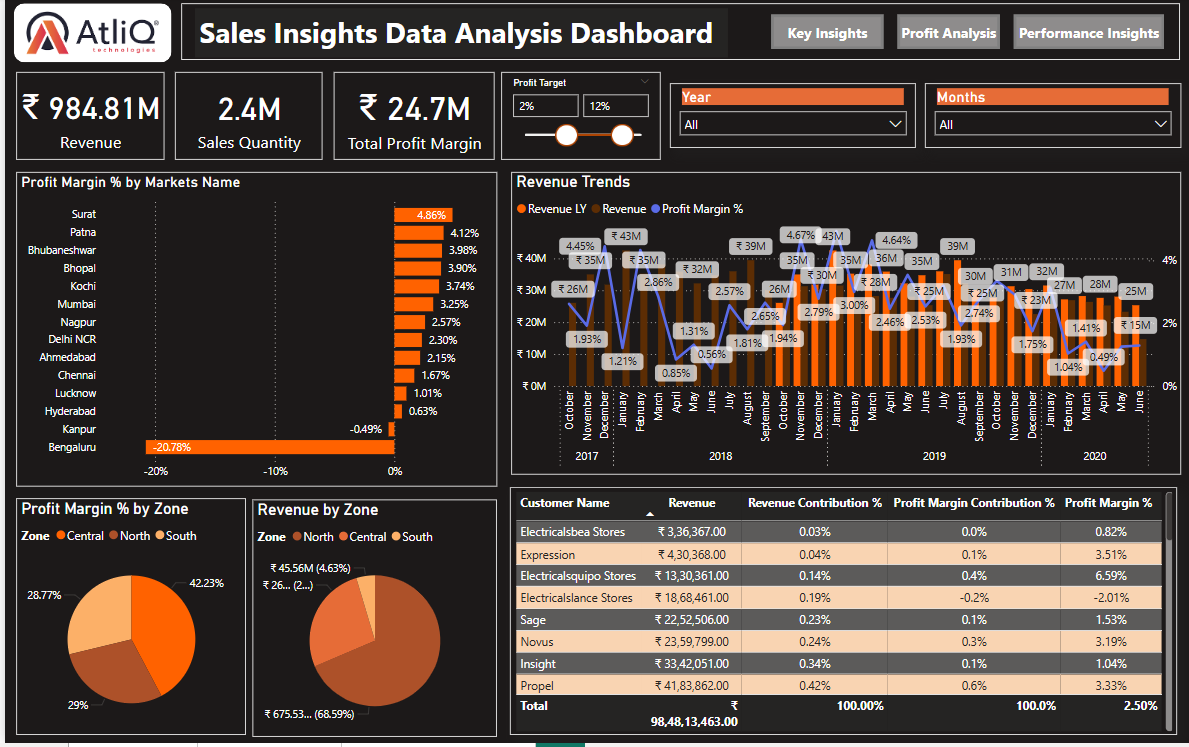

What the dashboard file says about the page in this screenshot:
{"tool":"powerbi","page":{"name":"Performance insights","canvas":[1350,850],"ordinal":2},"visuals":[{"type":"card","fields":{"Values":["keymeasure.Revenue"]},"box":[12.6,85.7,168.6,99.8],"z":0},{"type":"card","fields":{"Values":["keymeasure.sales quntity"]},"box":[193.3,85,168.3,100],"z":1000},{"type":"slicer","fields":{"Values":["sales date.year"]},"box":[758.3,98.3,280,73.3],"z":2000},{"type":"slicer","fields":{"Values":["sales date.cy_date"]},"box":[1048.3,98.3,291.7,73.3],"z":3000},{"type":"card","fields":{"Values":["keymeasure.Total Profit Margin"]},"box":[375,85,183.3,100],"z":4000},{"type":"barChart","title":"Profit Margin % by Markets Name","fields":{"Y":["keymeasure.Profit Margin %"],"Category":["sales markets.markets_name","sales customers.custmer_name","sales products.product_code"]},"box":[12.6,199.5,547.9,358.3],"z":5000},{"type":"lineClusteredColumnComboChart","title":"Revenue Trends","fields":{"Category":["sales date.cy_date.Variation.Date Hierarchy.Year","sales date.cy_date.Variation.Date Hierarchy.Month"],"Y":["keymeasure.Revenue LY","keymeasure.Revenue"],"Y2":["keymeasure.Profit Margin %"]},"box":[576.7,200,763.3,345],"z":6000},{"type":"slicer","fields":{"Values":["Profit Target1.Profit Target"]},"box":[565,85,181.7,100],"z":7000},{"type":"pieChart","title":"Profit Margin % by Zone","fields":{"Y":["keymeasure.Profit Margin %"],"Category":["sales markets.zone"]},"box":[12.6,571.8,261.3,269.8],"z":8000},{"type":"pieChart","title":"Revenue by Zone","fields":{"Category":["sales markets.zone"],"Y":["keymeasure.Revenue"]},"box":[282,572,278,270],"z":9000},{"type":"tableEx","fields":{"Values":["sales customers.custmer_name","keymeasure.Revenue","keymeasure.Revenue Contribution %","keymeasure.Profit Margin Contribution %","keymeasure.Profit Margin %"]},"box":[576,557.8,760.1,282.4],"z":10000},{"type":"shape","box":[200.9,7,1138,64.6],"z":11000},{"type":"actionButton","box":[1149.3,19.7,171.4,39.3],"z":12000},{"type":"actionButton","box":[1017.2,19.7,116.6,39.3],"z":13000},{"type":"actionButton","box":[872.5,19.7,127.9,39.3],"z":14000},{"type":"shape","box":[9.8,7,179.8,67.4],"z":15000},{"type":"image","box":[14,7,171.4,67.4],"z":16000},{"type":"textbox","box":[216.4,12.6,606.9,56.2],"z":17000}]}

Visuals, with their boxes in screenshot pixels (x1, y1, x2, y2), scaled from the page's 1350x850 canvas onto the 1189x747 screenshot:
card - keymeasure.Revenue: crop(11, 75, 160, 163)
card - keymeasure.sales quntity: crop(170, 75, 318, 163)
slicer - sales date.year: crop(668, 86, 914, 151)
slicer - sales date.cy_date: crop(923, 86, 1180, 151)
card - keymeasure.Total Profit Margin: crop(330, 75, 492, 163)
"Profit Margin % by Markets Name" barChart: crop(11, 175, 494, 490)
"Revenue Trends" lineClusteredColumnComboChart: crop(508, 176, 1180, 479)
slicer - Profit Target1.Profit Target: crop(498, 75, 658, 163)
"Profit Margin % by Zone" pieChart: crop(11, 503, 241, 740)
"Revenue by Zone" pieChart: crop(248, 503, 493, 740)
tableEx - sales customers.custmer_name x keymeasure.Revenue: crop(507, 490, 1177, 738)
shape: crop(177, 6, 1179, 63)
actionButton: crop(1012, 17, 1163, 52)
actionButton: crop(896, 17, 999, 52)
actionButton: crop(768, 17, 881, 52)
shape: crop(9, 6, 167, 65)
image: crop(12, 6, 163, 65)
textbox: crop(191, 11, 725, 60)
